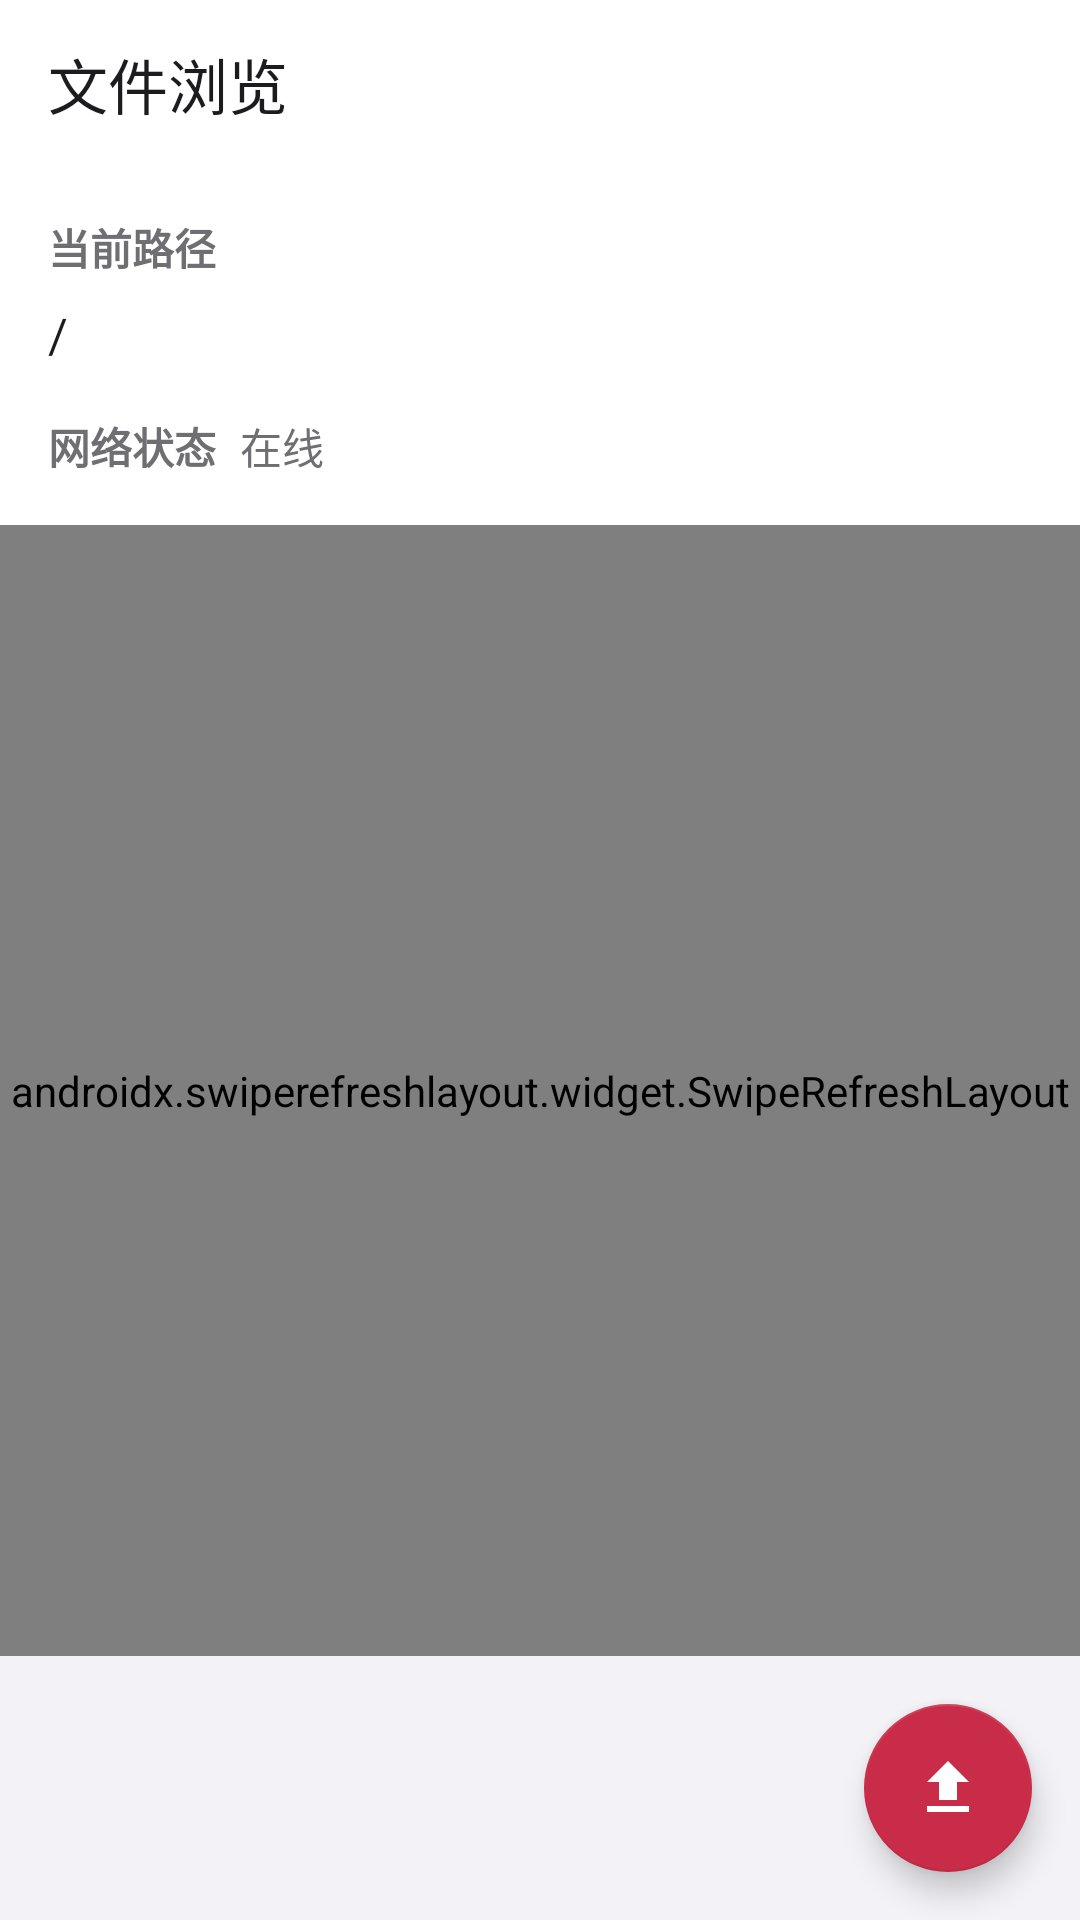

Screen size 1080w x 1920h. Icon name, then its center in pixels as point (x, y):
上传: point (948, 1788)
